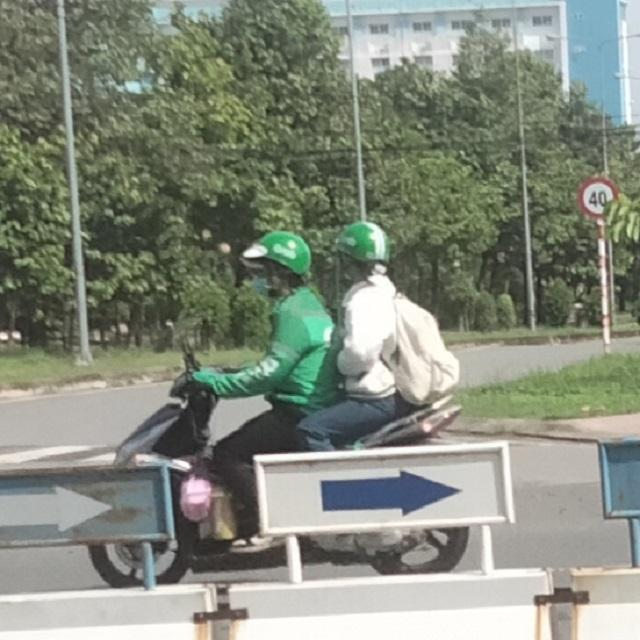Helmet: (242, 232, 310, 300), (334, 220, 388, 280)
